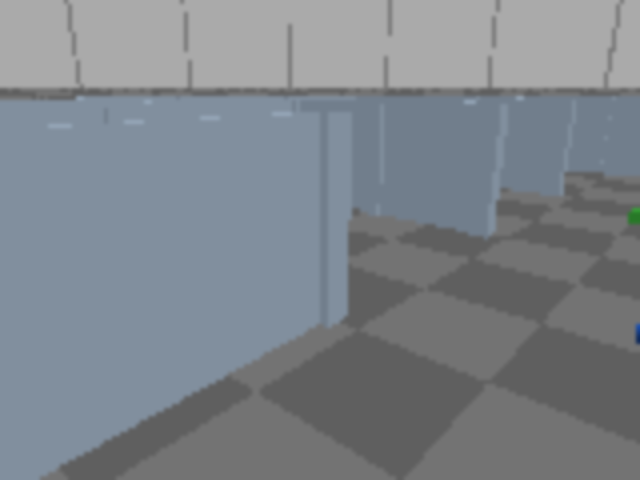puck: (626, 315, 638, 356)
